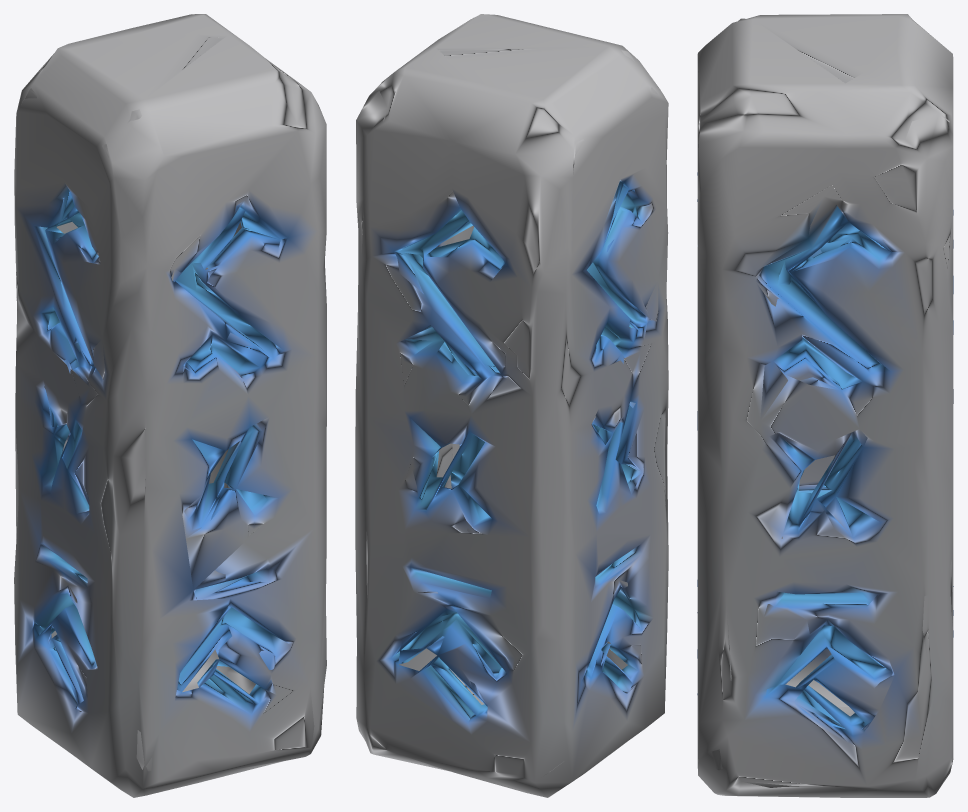
File: gen3d-rune-stone-lod0.glb
The picture shows the model from 3 angles, left to right: view 1: azimuth 30°, elevation 25°; view 2: azimuth 150°, elevation 25°; view 3: azimuth 270°, elevation 25°; orthographic projection. The views are drawn at different scales.
Parts seen in each view (by area): view 1: part_0; view 2: part_0; view 3: part_0.
Part boxes in pixels (bbox=[...]): part_0: bbox=[14, 14, 326, 797]; part_0: bbox=[355, 14, 668, 797]; part_0: bbox=[697, 14, 953, 797].
Size of the model in its own units: 0.3291 by 1 by 0.3296.
